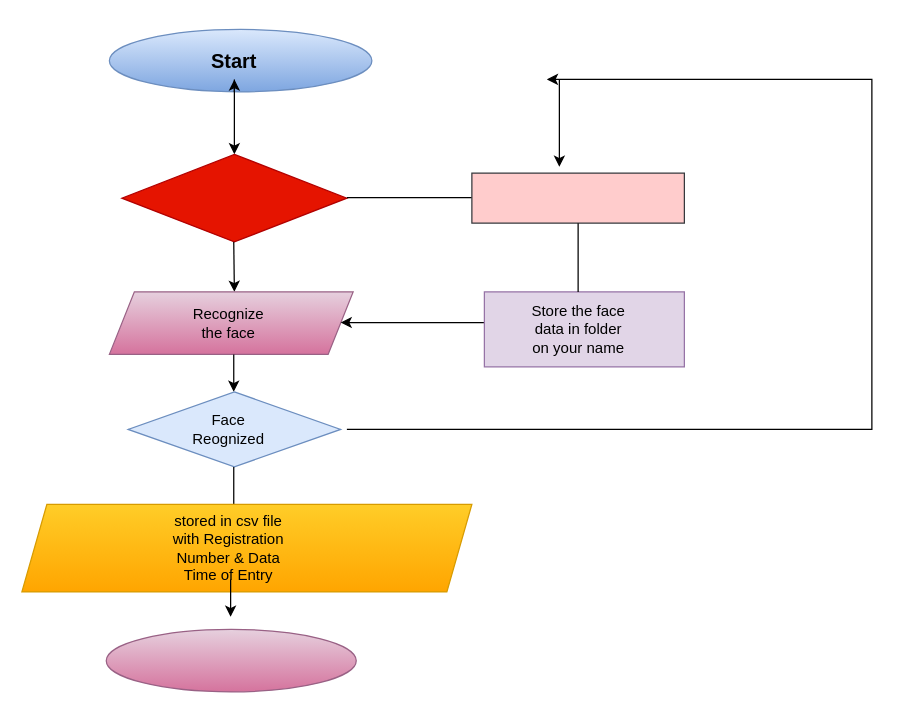
The diagram is 904 pixels wide and 714 high, and some of its shapes have lost their labels. The centre of each missing label's shape, as x and y in pixels:
End: (230,660)
Give your photograph: (577,197)
New User?: (234,197)
